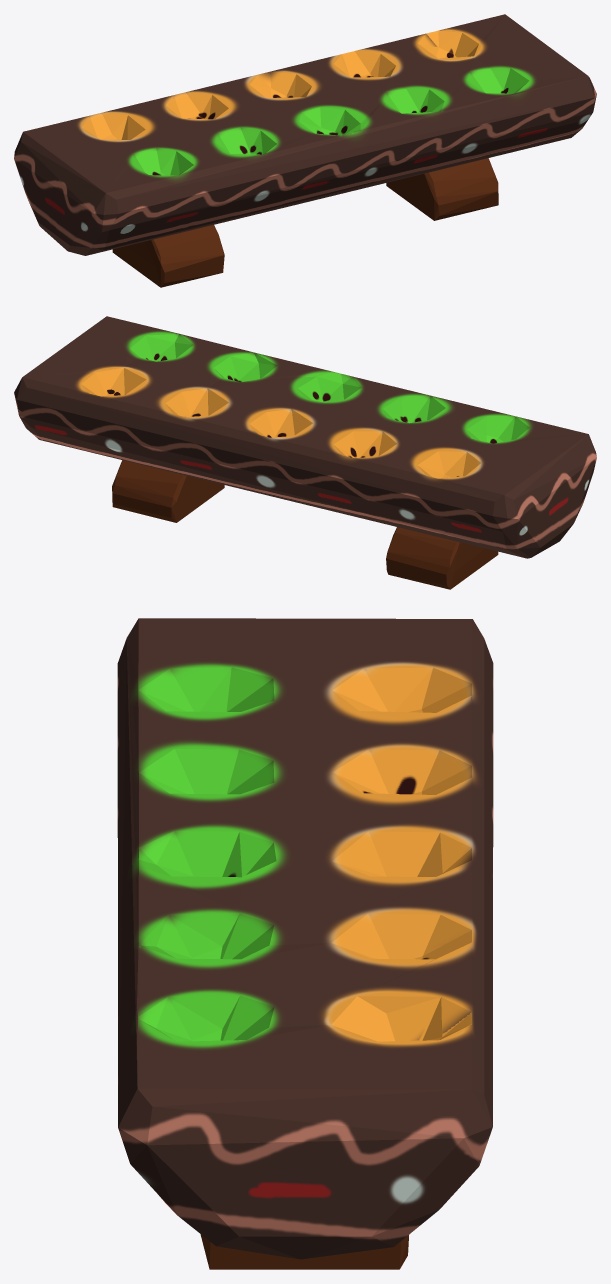
File: Songho.fbx
3 views of the same model, one above another, from view 1: azimuth 30°, elevation 25°; view 2: azimuth 150°, elevation 25°; view 3: azimuth 270°, elevation 25° (orthographic). The views are drawn at different scales.
Parts seen in each view (by area): view 1: Jeu; view 2: Jeu; view 3: Jeu.
Boxes of the visible parts, x1,y1,x2,y2 form: Jeu: (14, 14, 596, 287); Jeu: (14, 316, 596, 589); Jeu: (117, 618, 493, 1269).
Bounding box in the file's own units: 601 × 143 × 194.
